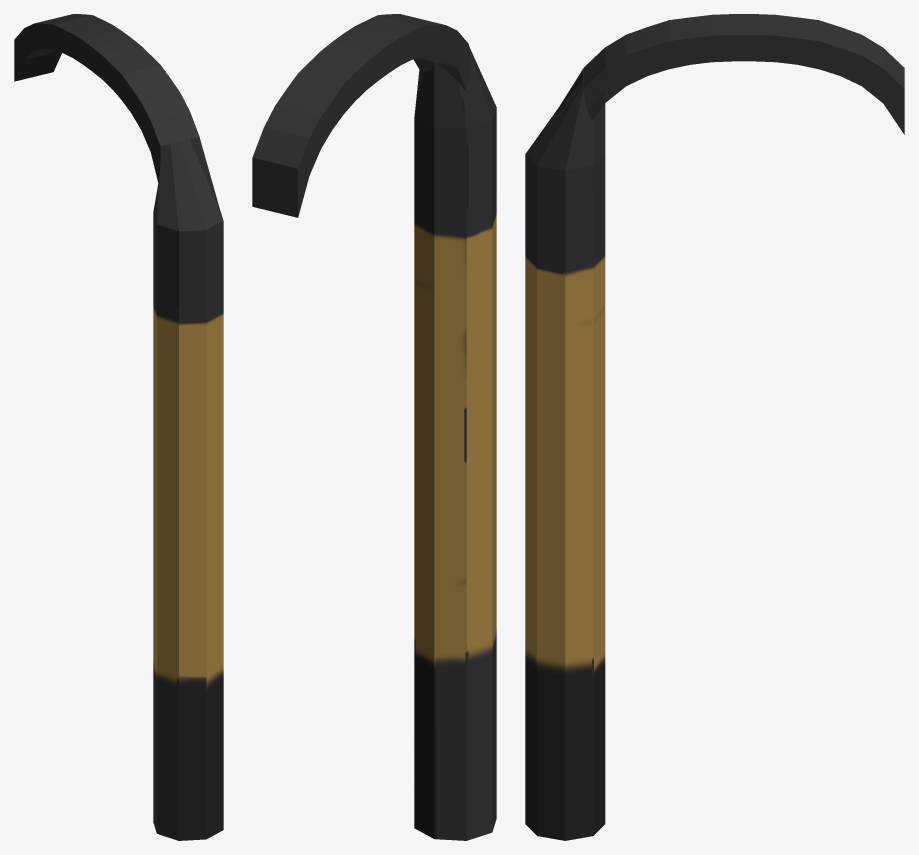
Rendered from Hoe.fbx.
The picture shows the model from 3 angles, left to right: view 1: azimuth 30°, elevation 25°; view 2: azimuth 150°, elevation 25°; view 3: azimuth 270°, elevation 25°; orthographic projection. The views are drawn at different scales.
Parts seen in each view (by area): view 1: Hoe; view 2: Hoe; view 3: Hoe.
Boxes of the visible parts, <box> form: Hoe: <box>14,14,223,840</box>; Hoe: <box>252,14,496,840</box>; Hoe: <box>525,14,904,840</box>.
Size of the model in its own units: 38 by 419 by 180.
